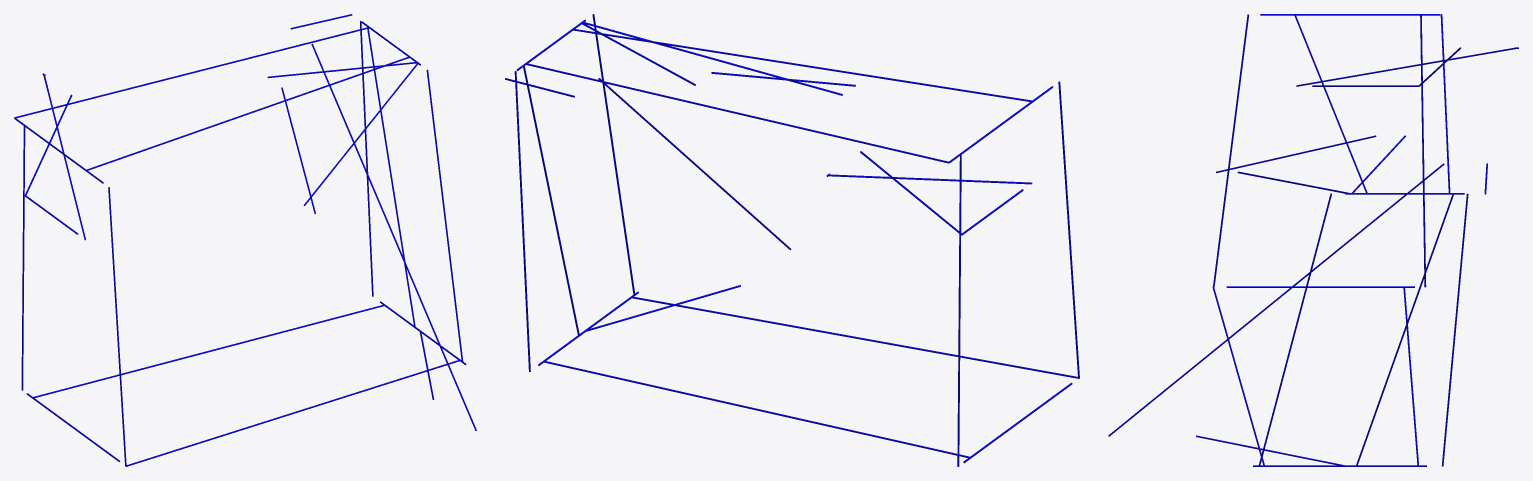
Rendered from corrected_3d_strokes.glb.
The picture shows the model from 3 angles, left to right: view 1: azimuth 30°, elevation 25°; view 2: azimuth 150°, elevation 25°; view 3: azimuth 270°, elevation 25°; orthographic projection. The views are drawn at different scales.
Visible parts, largest first — view 1: world; view 2: world; view 3: world.
Boxes of the visible parts, x1,y1,x2,y2 form: world: (14,14,476,466); world: (505,14,1079,466); world: (1108,14,1518,466).
Bounding box in the file's own units: 9.78 × 6.95 × 9.44.
